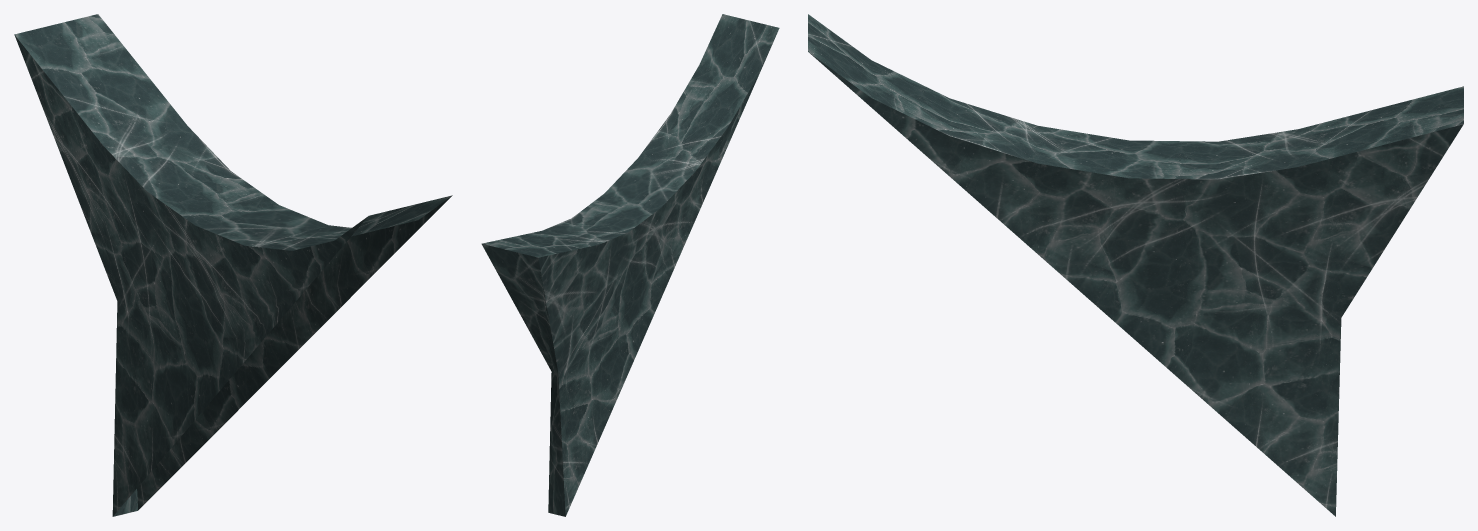
Rendered from Dragonfly_IceSlide_Straight_Ramp_Thin.fbx.
3 views of the same model, side by side, from view 1: azimuth 30°, elevation 25°; view 2: azimuth 150°, elevation 25°; view 3: azimuth 270°, elevation 25° (orthographic). The views are drawn at different scales.
Visible parts, largest first — view 1: Slide Ramp Thin; view 2: Slide Ramp Thin; view 3: Slide Ramp Thin.
Part boxes in pixels (x1,y1,x2,y2): Slide Ramp Thin: (14,14,452,516); Slide Ramp Thin: (481,14,779,516); Slide Ramp Thin: (808,14,1463,516).
Size of the model in its own units: 1.4 by 8.25 by 10.25.
